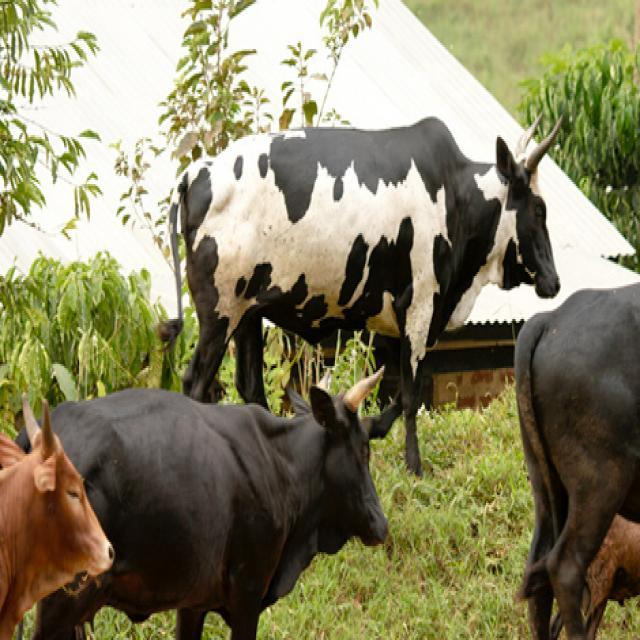cow: (151, 103, 571, 473), (15, 364, 389, 630), (511, 280, 639, 638), (0, 398, 114, 623), (550, 517, 639, 630)
